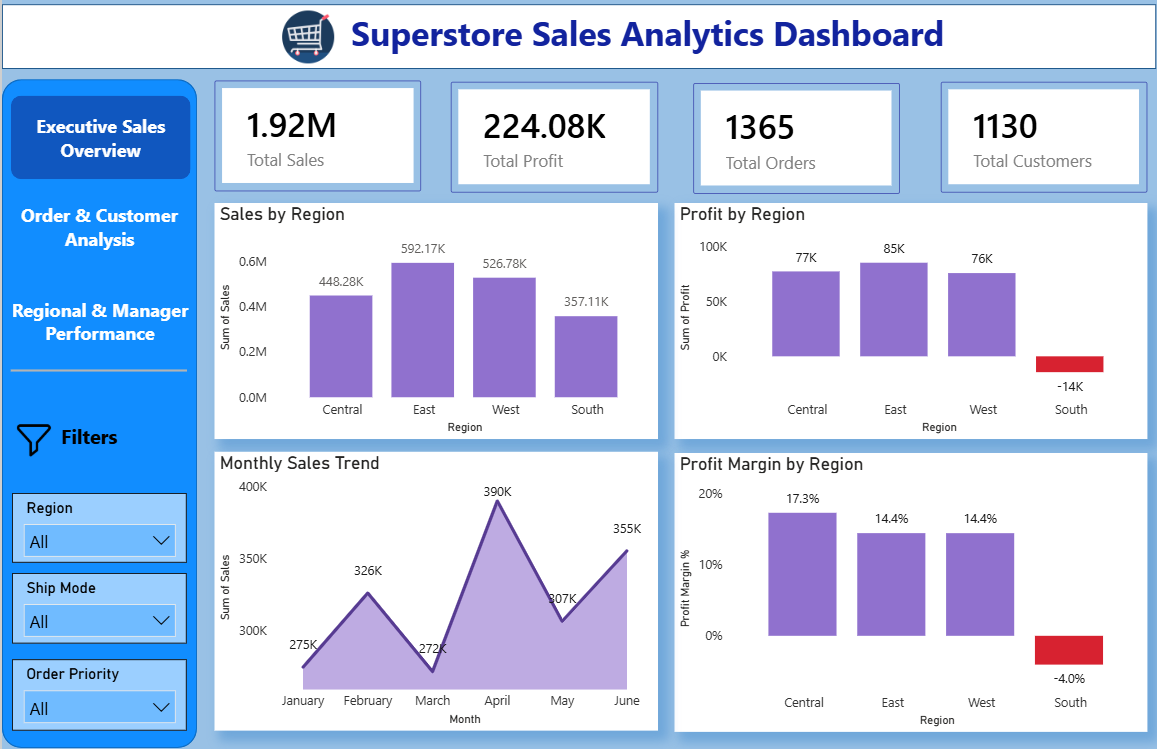

This screenshot's page, from the dashboard's own definition file:
{"tool":"powerbi","page":{"name":"Executive sales overview","canvas":[1100,720],"ordinal":0},"visuals":[{"type":"textbox","box":[0,10.7,1099,61.9],"z":0},{"type":"cardVisual","fields":{"Data":["Orders.Total customers"]},"box":[894.1,84.5,196.4,106],"z":500},{"type":"cardVisual","fields":{"Data":["Orders.Total sales"]},"box":[202.4,83.3,197,106],"z":1000},{"type":"cardVisual","fields":{"Data":["Orders.Total Profit"]},"box":[427.4,84.5,197.6,106],"z":4000},{"type":"cardVisual","fields":{"Data":["Orders.Total orders"]},"box":[658.3,85.7,196.4,106],"z":5000},{"type":"columnChart","title":"Profit by Region","fields":{"Y":["Sum(Orders.Profit)"],"Category":["Region_sorting.Region"]},"box":[640.5,200,450,225],"z":5250},{"type":"clusteredColumnChart","title":"Sales by Region","fields":{"Y":["Sum(Orders.Sales)"],"Category":["Region_sorting.Region"]},"box":[202.4,200,422.6,225],"z":5500},{"type":"columnChart","title":"Profit Margin by Region","fields":{"Category":["Region_sorting.Region"],"Y":["Orders.Profit Margin %"]},"box":[640.5,438.1,450,265.5],"z":5750},{"type":"areaChart","title":"Monthly Sales Trend","fields":{"Y":["Sum(Orders.Sales)"],"Category":["Month_sorting.Month"]},"box":[202.4,436.9,422.6,265.5],"z":6000},{"type":"shape","box":[0,82.1,185.7,636.9],"z":9000},{"type":"slicer","fields":{"Values":["Orders.Region"]},"box":[9.5,476.2,166.7,66.7],"z":10000},{"type":"slicer","fields":{"Values":["Orders.Ship Mode"]},"box":[9.5,552.4,166.7,67],"z":11000},{"type":"actionButton","title":"Executive Overview","box":[8.3,97.6,171.4,79.8],"z":12000},{"type":"actionButton","title":"Executive Overview","box":[9.5,181,166.7,83.3],"z":13000},{"type":"actionButton","title":"Executive Overview","box":[3.6,273.8,179.8,77.4],"z":14000},{"type":"slicer","fields":{"Values":["Orders.Order Priority"]},"box":[9.5,634.5,166.7,67.9],"z":15000},{"type":"shape","box":[8.3,339.3,167.9,40.5],"z":16000},{"type":"image","box":[250,16.7,83.3,50],"z":17000},{"type":"image","box":[9.5,406,41.7,38.1],"z":18000},{"type":"textbox","box":[51.2,404.8,95.2,39.3],"z":19000}]}

Visuals, with their boxes in screenshot pixels (x1, y1, x2, y2), scaled from the page's 1100x720 canvas onto the 1157x749 screenshot:
textbox: Rect(0, 11, 1156, 76)
cardVisual - Orders.Total customers: Rect(940, 88, 1147, 198)
cardVisual - Orders.Total sales: Rect(213, 87, 420, 197)
cardVisual - Orders.Total Profit: Rect(450, 88, 657, 198)
cardVisual - Orders.Total orders: Rect(692, 89, 899, 199)
"Profit by Region" columnChart: Rect(674, 208, 1147, 442)
"Sales by Region" clusteredColumnChart: Rect(213, 208, 657, 442)
"Profit Margin by Region" columnChart: Rect(674, 456, 1147, 732)
"Monthly Sales Trend" areaChart: Rect(213, 454, 657, 731)
shape: Rect(0, 85, 195, 748)
slicer - Orders.Region: Rect(10, 495, 185, 565)
slicer - Orders.Ship Mode: Rect(10, 575, 185, 644)
"Executive Overview" actionButton: Rect(9, 102, 189, 185)
"Executive Overview" actionButton: Rect(10, 188, 185, 275)
"Executive Overview" actionButton: Rect(4, 285, 193, 365)
slicer - Orders.Order Priority: Rect(10, 660, 185, 731)
shape: Rect(9, 353, 185, 395)
image: Rect(263, 17, 351, 69)
image: Rect(10, 422, 54, 462)
textbox: Rect(54, 421, 154, 462)
